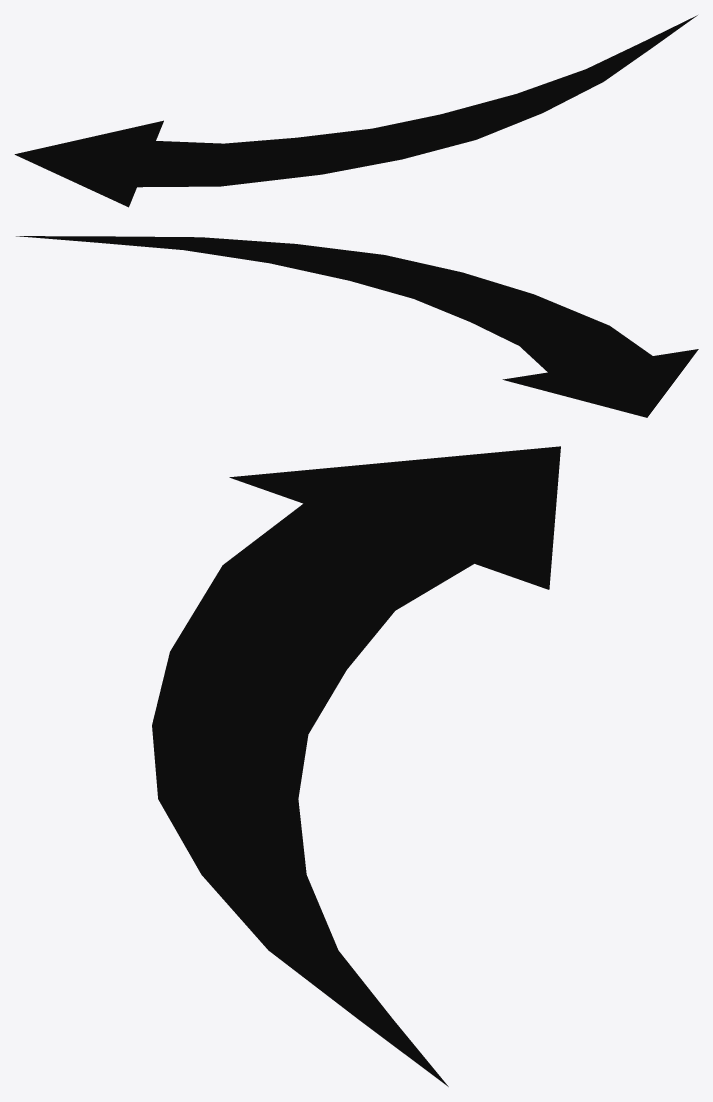
File: arrow04-01.FBX
3 views of the same model, one above another, from view 1: azimuth 30°, elevation 25°; view 2: azimuth 150°, elevation 25°; view 3: azimuth 270°, elevation 25° (orthographic). The views are drawn at different scales.
Visible parts, largest first — view 1: Box006; view 2: Box006; view 3: Box006.
Part boxes in pixels (bbox=[...]): Box006: bbox=[14, 15, 697, 207]; Box006: bbox=[16, 236, 698, 417]; Box006: bbox=[152, 446, 560, 1086].
Size of the model in its own units: 716 by 4.26e-14 by 193.
